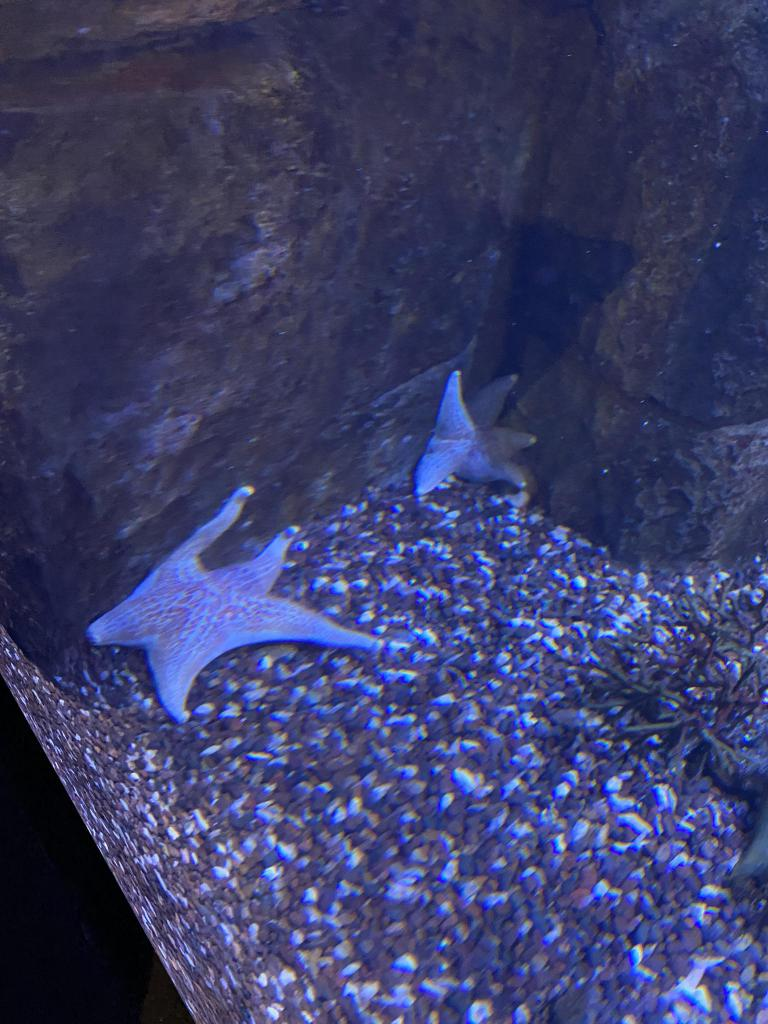starfish: (88, 486, 384, 720), (415, 370, 537, 492)
